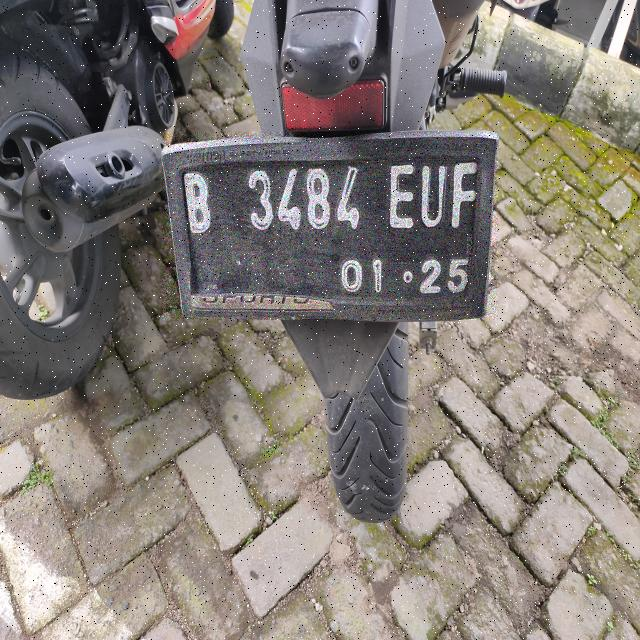plate: (163, 132, 497, 319)
